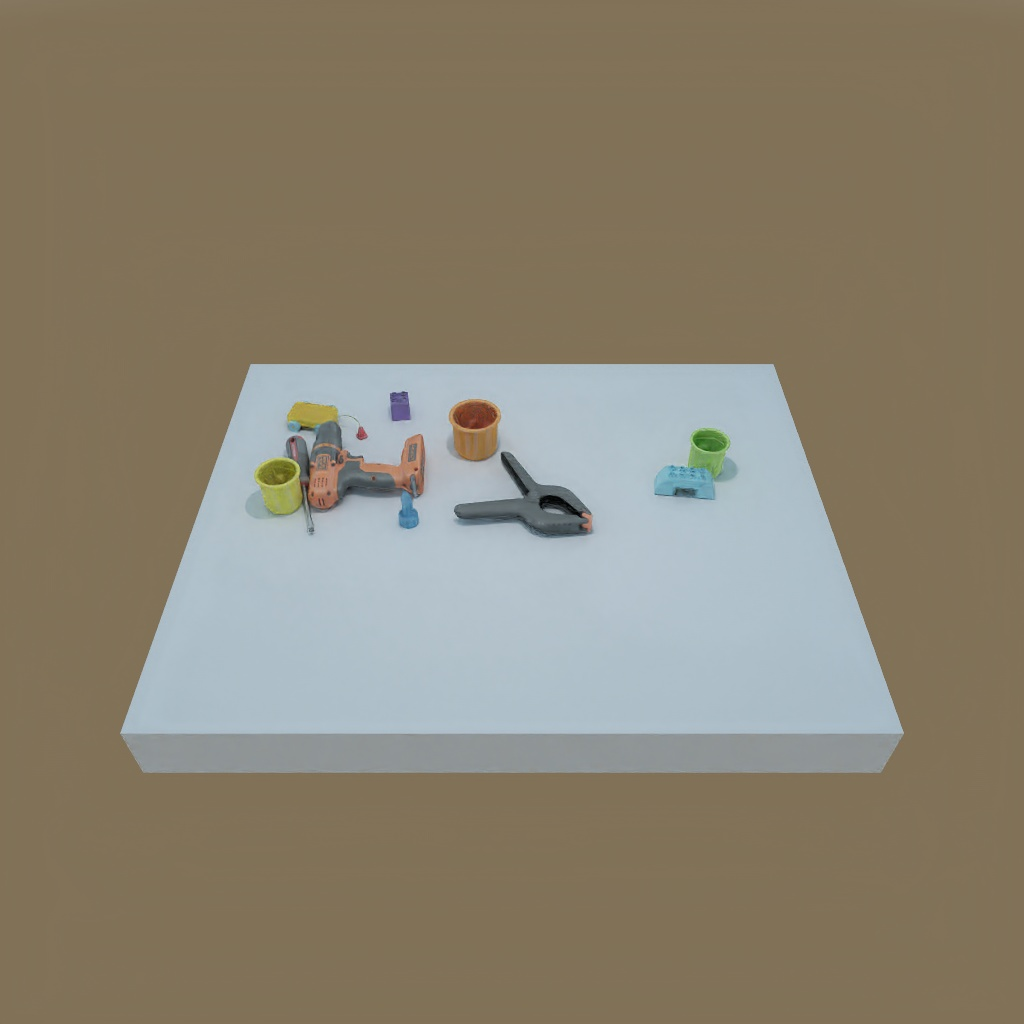power_drill: (310, 420, 428, 516)
